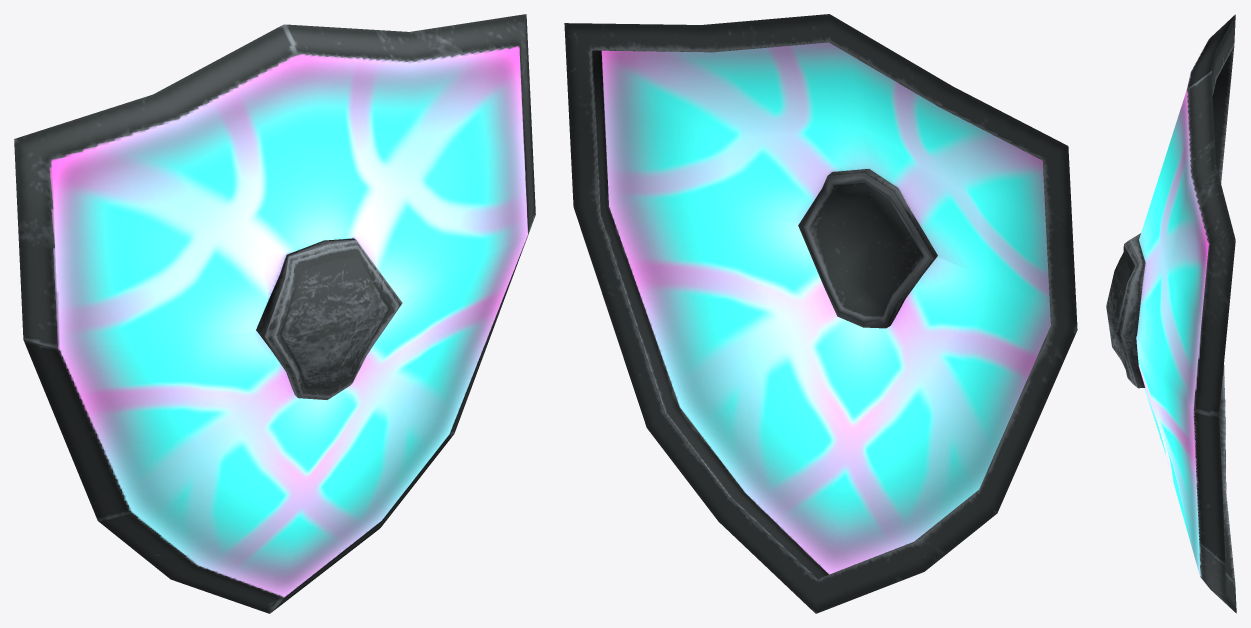
Rendered from floating_shield.fbx.
The picture shows the model from 3 angles, left to right: view 1: azimuth 30°, elevation 25°; view 2: azimuth 150°, elevation 25°; view 3: azimuth 270°, elevation 25°; orthographic projection. The views are drawn at different scales.
Parts seen in each view (by area): view 1: floating_shield; view 2: floating_shield; view 3: floating_shield.
Part boxes in pixels (<box>): floating_shield: <box>14,14,535,613</box>; floating_shield: <box>564,14,1077,613</box>; floating_shield: <box>1106,14,1236,613</box>.
Size of the model in its own units: 100 by 112 by 24.38.
